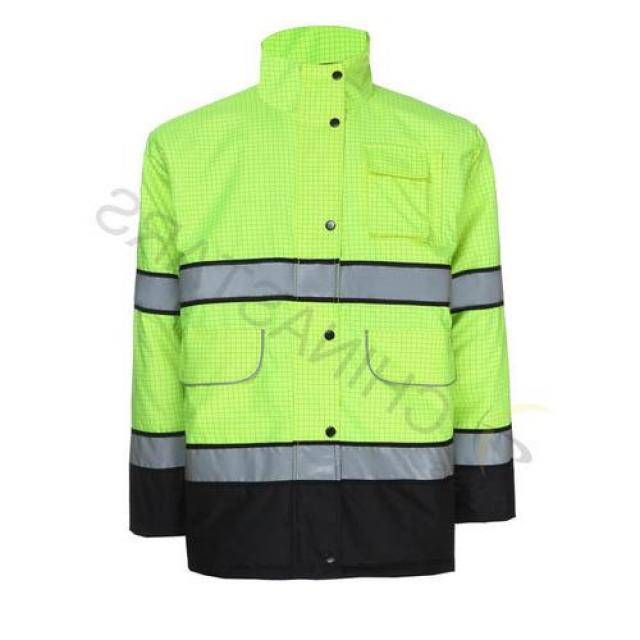Reflective-Jacket: (88, 46, 539, 614)
